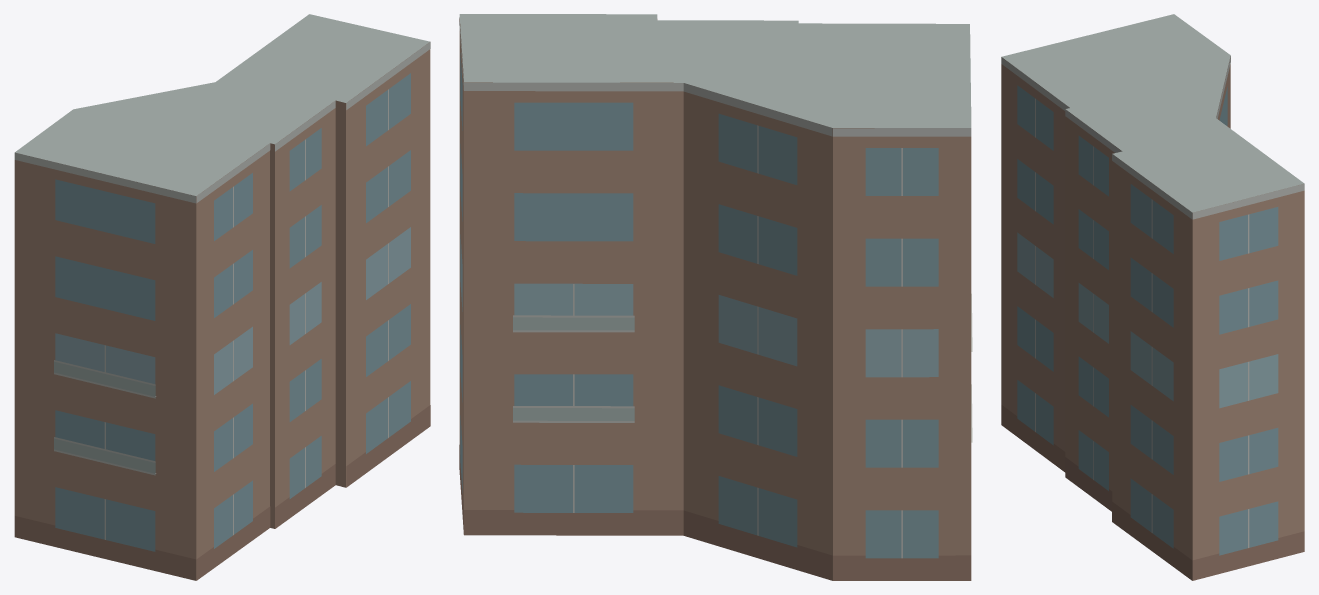
Rendered from survey-upis-32492018.glb.
3 views of the same model, side by side, from view 1: azimuth 30°, elevation 25°; view 2: azimuth 150°, elevation 25°; view 3: azimuth 270°, elevation 25° (orthographic). The views are drawn at different scales.
Parts seen in each view (by area): view 1: survey-upis-32492018.tmp; view 2: survey-upis-32492018.tmp; view 3: survey-upis-32492018.tmp.
Boxes of the visible parts, x1=… form: survey-upis-32492018.tmp: x1=14, y1=14, x2=430, y2=580; survey-upis-32492018.tmp: x1=459, y1=14, x2=972, y2=580; survey-upis-32492018.tmp: x1=1001, y1=14, x2=1304, y2=580.
Bounding box in the file's own units: 14.82 × 12.8 × 9.56.
